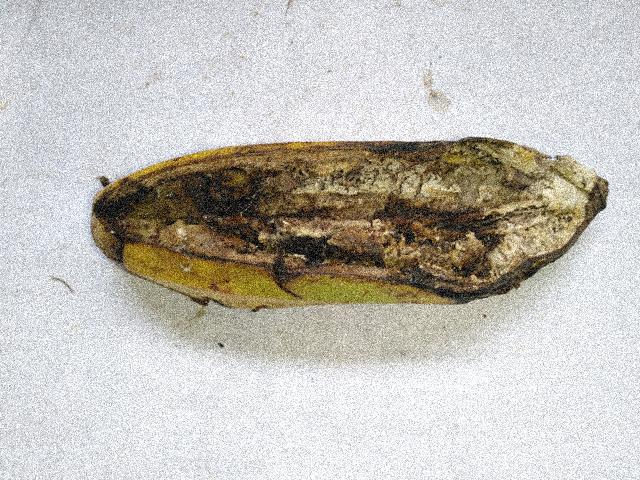rotten: (79, 118, 605, 323)
